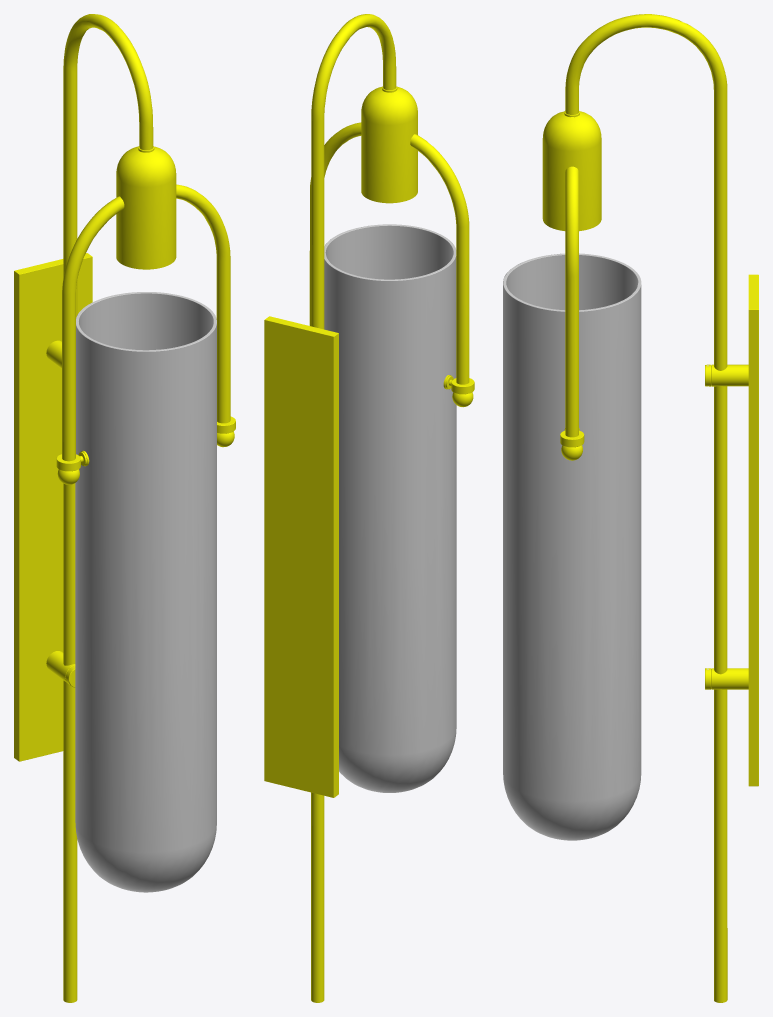
File: designconnected-arc-wall-sconce-9056.optimized.glb
3 renders of one model, left to right at view 1: azimuth 30°, elevation 25°; view 2: azimuth 150°, elevation 25°; view 3: azimuth 270°, elevation 25°, orthographic. The views are drawn at different scales.
Parts seen in each view (by area): view 1: Allied_Maker_Arc_Wall_Sconce_mat1; view 2: Allied_Maker_Arc_Wall_Sconce_mat1; view 3: Allied_Maker_Arc_Wall_Sconce_mat1.
Part boxes in pixels (left/top/right/bottom): Allied_Maker_Arc_Wall_Sconce_mat1: left=14, top=14, right=235, bottom=1002; Allied_Maker_Arc_Wall_Sconce_mat1: left=264, top=14, right=474, bottom=1002; Allied_Maker_Arc_Wall_Sconce_mat1: left=503, top=14, right=758, bottom=1002.
Size of the model in its own units: 0.1824 by 0.9982 by 0.2349.
